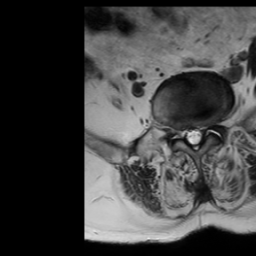CCS_normal: (191, 121, 197, 155)
LFS_severe_stenosis: (204, 115, 213, 135)
LLS_normal: (197, 121, 204, 145)
RFS_normal: (176, 121, 184, 143)
RLS_normal: (184, 121, 191, 148)
